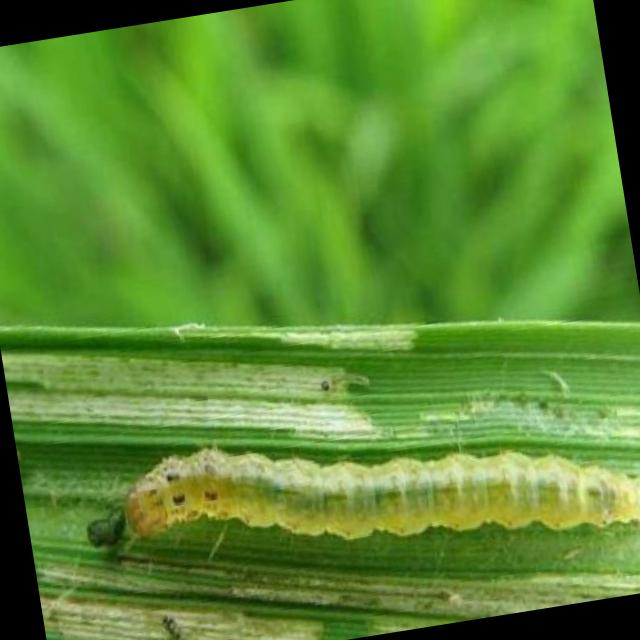leaf-folder: (63, 351, 640, 608)
